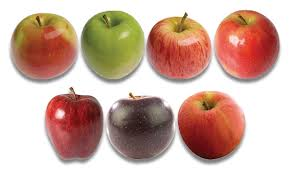apple: (212, 11, 280, 80), (179, 89, 245, 159), (12, 13, 79, 80), (82, 10, 143, 83), (147, 16, 213, 81), (109, 96, 173, 161), (46, 95, 104, 162)
